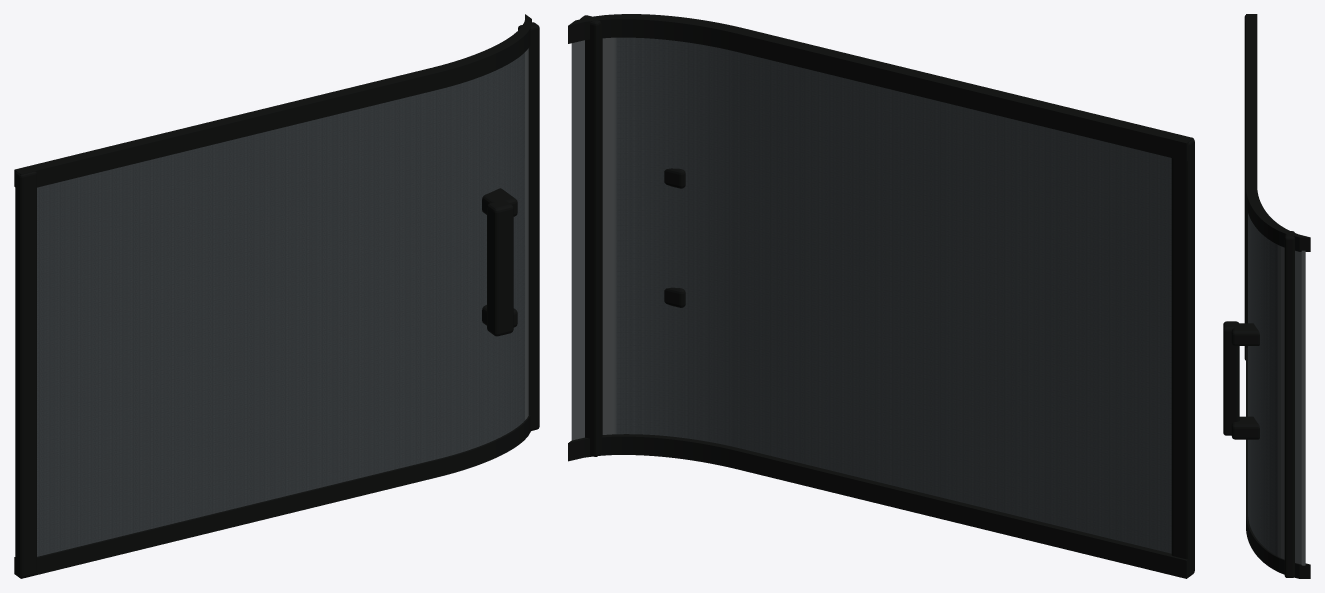
3 renders of one model, left to right at view 1: azimuth 30°, elevation 25°; view 2: azimuth 150°, elevation 25°; view 3: azimuth 270°, elevation 25°, orthographic. The views are drawn at different scales.
Parts seen in each view (by area): view 1: __articraft_commit_0003_0000, __articraft_commit_0003_0001; view 2: __articraft_commit_0003_0000, __articraft_commit_0003_0001; view 3: __articraft_commit_0003_0000, __articraft_commit_0003_0001.
Part boxes in pixels (box(x1,y1,x2,y2)): __articraft_commit_0003_0000: box(14, 14, 539, 578); __articraft_commit_0003_0001: box(482, 188, 517, 336); __articraft_commit_0003_0000: box(568, 14, 1194, 578); __articraft_commit_0003_0001: box(664, 168, 685, 307); __articraft_commit_0003_0000: box(1244, 14, 1310, 578); __articraft_commit_0003_0001: box(1223, 321, 1259, 439).
Size of the model in its own units: 0.802 by 0.57 by 0.1326.
Materials: 2 (1 with a texture image).
